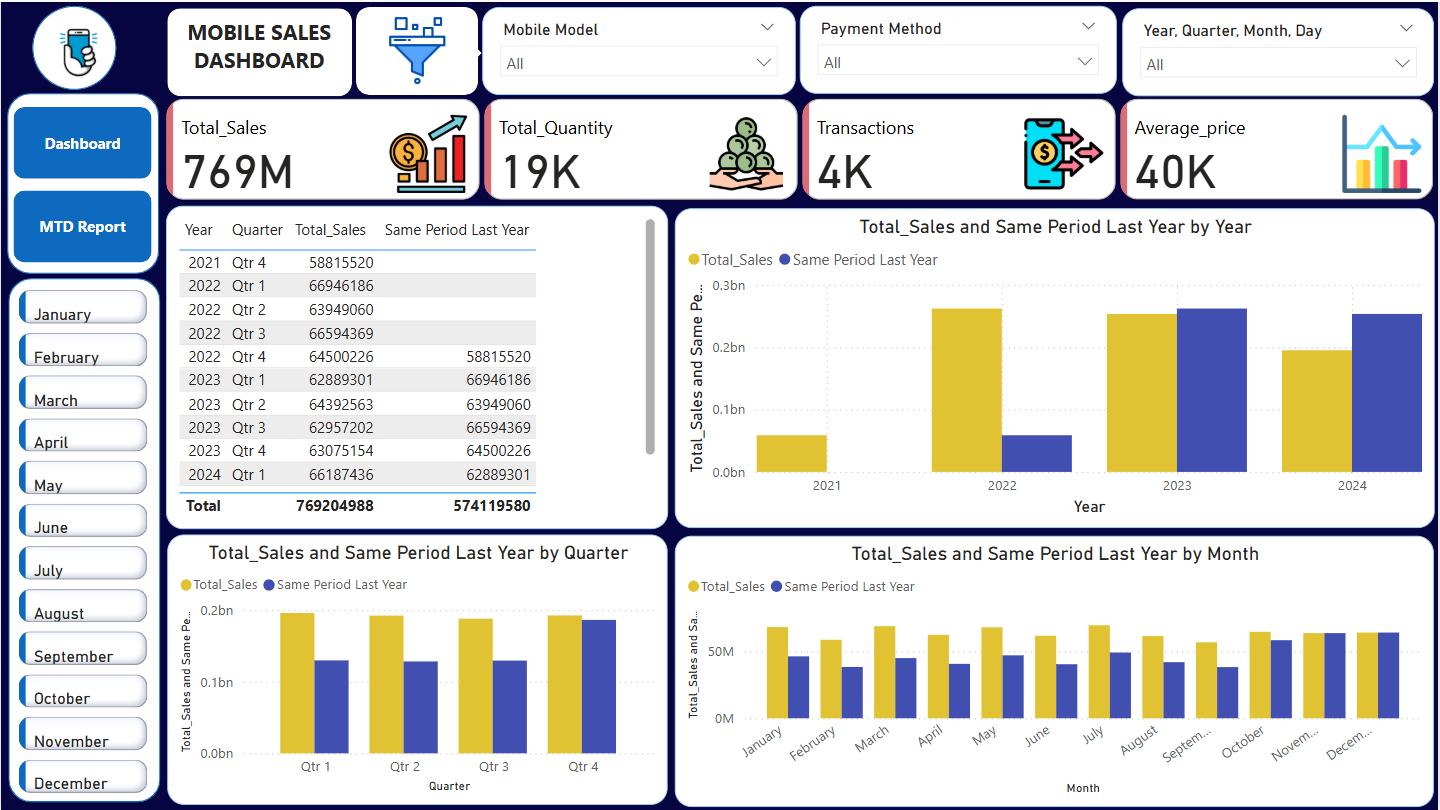

The dashboard page shown, as its layout file describes it:
{"tool":"powerbi","page":{"name":"Same Period Last Year","canvas":[1280,720],"ordinal":2},"visuals":[{"type":"shape","box":[28,3.7,75,75],"z":0},{"type":"image","box":[36.6,9.8,64.6,69.5],"z":1000},{"type":"shape","box":[6.1,81.7,135.4,161],"z":2000},{"type":"cardVisual","fields":{"Data":["Mobile_Sales_Data.Total_Sales","Mobile_Sales_Data.Total_Quantity","Mobile_Sales_Data.Transactions","Custom_Calender.Average_price"]},"box":[142,81.5,1138.3,100],"z":3000},{"type":"slicer","fields":{"Values":["Mobile_Sales_Data.Mobile Model"]},"box":[428.3,5,278.9,78.3],"z":4000},{"type":"slicer","fields":{"Values":["Mobile_Sales_Data.Payment Method"]},"box":[711.1,3.9,282.2,78.3],"z":5000},{"type":"slicer","fields":{"Values":["Custom_Calender.Date.Variation.Date Hierarchy.Year","Custom_Calender.Date.Variation.Date Hierarchy.Quarter","Custom_Calender.Date.Variation.Date Hierarchy.Month","Custom_Calender.Date.Variation.Date Hierarchy.Day"]},"box":[998.4,5.4,277.8,78.4],"z":6000},{"type":"shape","box":[316.1,4.9,108.7,78.3],"z":7000},{"type":"shape","box":[391.9,26.7,36.4,37.7],"z":8000},{"type":"image","box":[318.2,8.1,104.9,71.7],"z":9000},{"type":"shape","box":[147.8,5.2,164.6,78.4],"z":10000},{"type":"textbox","box":[153.8,8.8,152.5,73.8],"z":11000},{"type":"shape","box":[6.2,246.3,135.4,467.3],"z":12000},{"type":"advancedSlicerVisual","fields":{"Values":["Custom_Calender.Date.Variation.Date Hierarchy.Month"]},"box":[11.6,252.1,124.2,467.9],"z":13000},{"type":"tableEx","fields":{"Values":["Custom_Calender.Date.Variation.Date Hierarchy.Year","Custom_Calender.Date.Variation.Date Hierarchy.Quarter","Mobile_Sales_Data.Total_Sales","Mobile_Sales_Data.Same Period Last Year"]},"box":[146.9,181.5,446.9,287.7],"z":14000},{"type":"clusteredColumnChart","fields":{"Category":["Custom_Calender.Date.Variation.Date Hierarchy.Year","Custom_Calender.Date.Variation.Date Hierarchy.Quarter"],"Y":["Mobile_Sales_Data.Total_Sales","Mobile_Sales_Data.Same Period Last Year"]},"box":[600,184.1,676.6,285],"z":15000},{"type":"clusteredColumnChart","fields":{"Y":["Mobile_Sales_Data.Total_Sales","Mobile_Sales_Data.Same Period Last Year"],"Category":["Custom_Calender.Date.Variation.Date Hierarchy.Month","Custom_Calender.Date.Variation.Date Hierarchy.Day"]},"box":[600,475,676.2,241.2],"z":16000},{"type":"clusteredColumnChart","fields":{"Category":["Custom_Calender.Date.Variation.Date Hierarchy.Year","Custom_Calender.Date.Variation.Date Hierarchy.Quarter"],"Y":["Mobile_Sales_Data.Total_Sales","Mobile_Sales_Data.Same Period Last Year"]},"box":[148.1,474.1,445.7,240.7],"z":17000},{"type":"pageNavigator","box":[11.2,93.8,123.8,138.8],"z":18000}]}

Visuals, with their boxes in screenshot pixels (x1, y1, x2, y2), scaled from the page's 1280x720 canvas onto the 1440x810 screenshot:
shape: detection(32, 4, 116, 89)
image: detection(41, 11, 114, 89)
shape: detection(7, 92, 159, 273)
cardVisual - Mobile_Sales_Data.Total_Sales x Mobile_Sales_Data.Total_Quantity: detection(160, 92, 1439, 204)
slicer - Mobile_Sales_Data.Mobile Model: detection(482, 6, 796, 94)
slicer - Mobile_Sales_Data.Payment Method: detection(800, 4, 1117, 92)
slicer - Custom_Calender.Date.Variation.Date Hierarchy.Year x Custom_Calender.Date.Variation.Date Hierarchy.Quarter: detection(1123, 6, 1436, 94)
shape: detection(356, 6, 478, 94)
shape: detection(441, 30, 482, 72)
image: detection(358, 9, 476, 90)
shape: detection(166, 6, 351, 94)
textbox: detection(173, 10, 345, 93)
shape: detection(7, 277, 159, 803)
advancedSlicerVisual - Custom_Calender.Date.Variation.Date Hierarchy.Month: detection(13, 284, 153, 809)
tableEx - Custom_Calender.Date.Variation.Date Hierarchy.Year x Custom_Calender.Date.Variation.Date Hierarchy.Quarter: detection(165, 204, 668, 528)
clusteredColumnChart - Custom_Calender.Date.Variation.Date Hierarchy.Year x Custom_Calender.Date.Variation.Date Hierarchy.Quarter: detection(675, 207, 1436, 528)
clusteredColumnChart - Mobile_Sales_Data.Total_Sales x Mobile_Sales_Data.Same Period Last Year: detection(675, 534, 1436, 806)
clusteredColumnChart - Custom_Calender.Date.Variation.Date Hierarchy.Year x Custom_Calender.Date.Variation.Date Hierarchy.Quarter: detection(167, 533, 668, 804)
pageNavigator: detection(13, 106, 152, 262)
